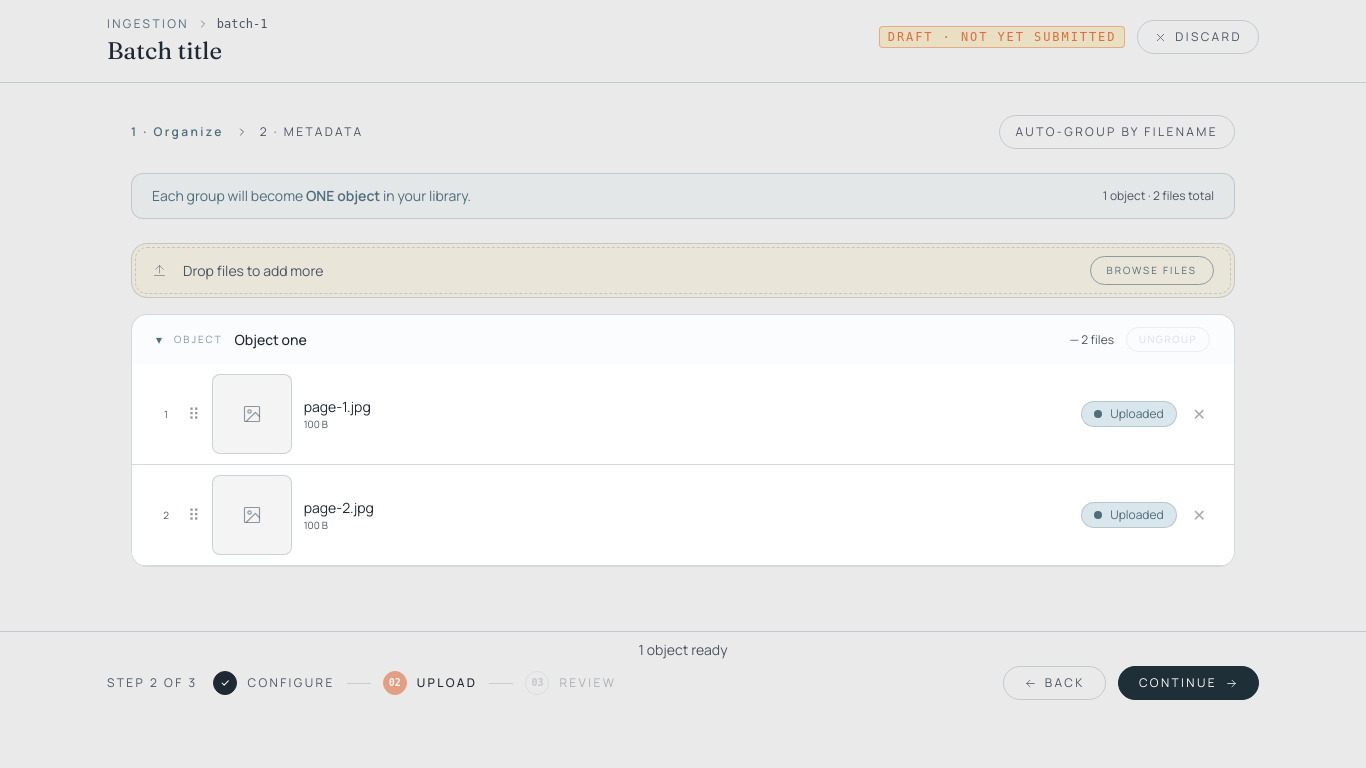
Test: /ingestion/[batchId]/setup +page.svelte › blocks Continue and surfaces an HTTP mutation failure
The width and height of the screenshot is (1366, 768).
Click the button "Continue" at (1188, 683), box [1118,666,1259,700]
(page scrolled)
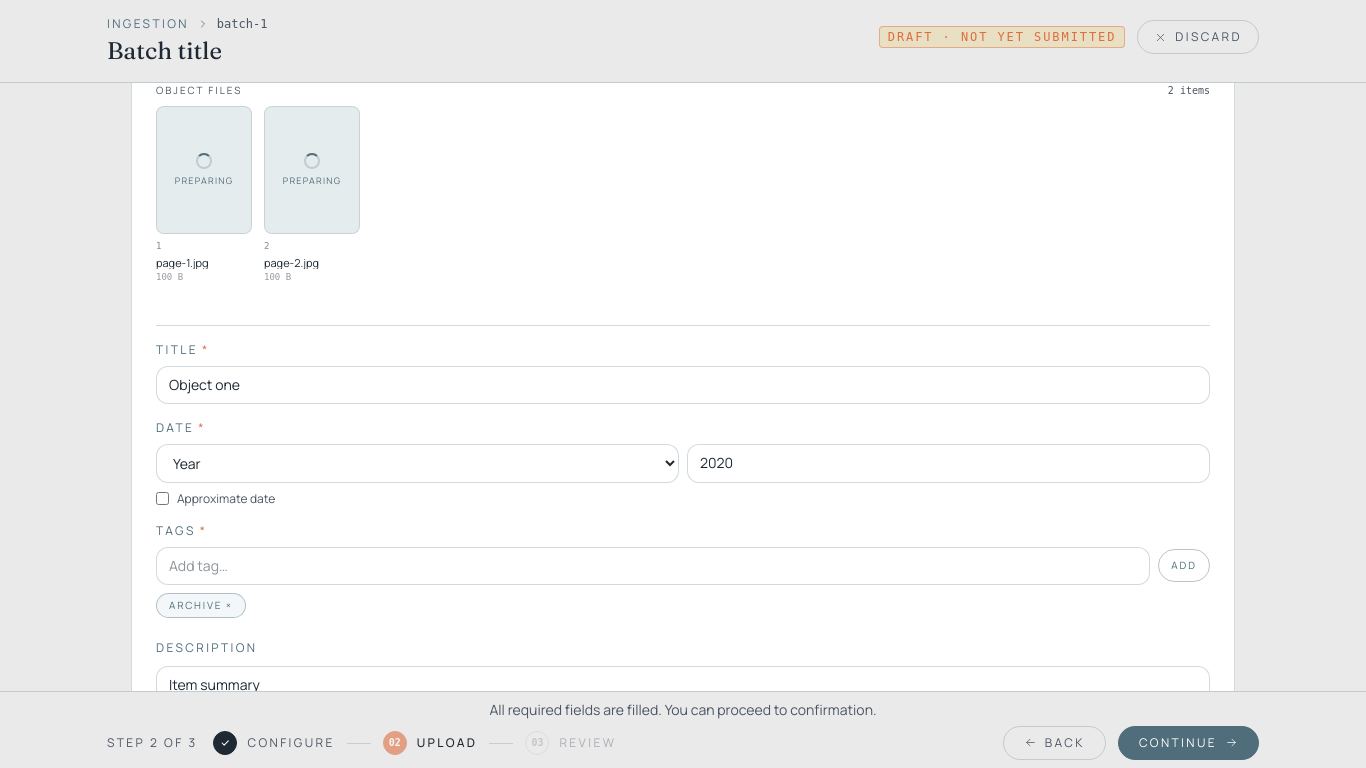
Replace the text in the field labelled "Title *" with "Changed title" at (683, 385), box [156,366,1210,404]
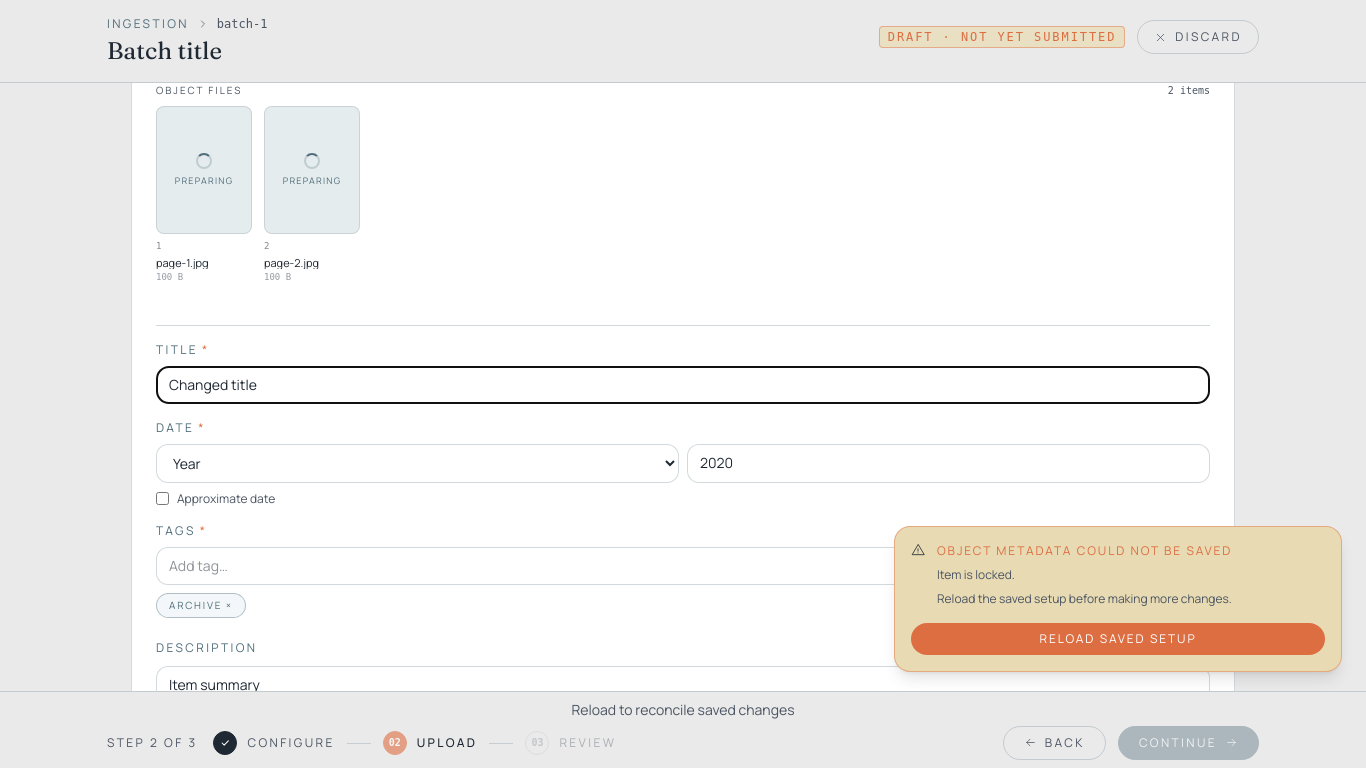
Check: the text "Object metadata could not be saved" is shown, box [937,542,1232,559]
Check: the button "Continue" is disabled, box [1118,726,1259,760]
